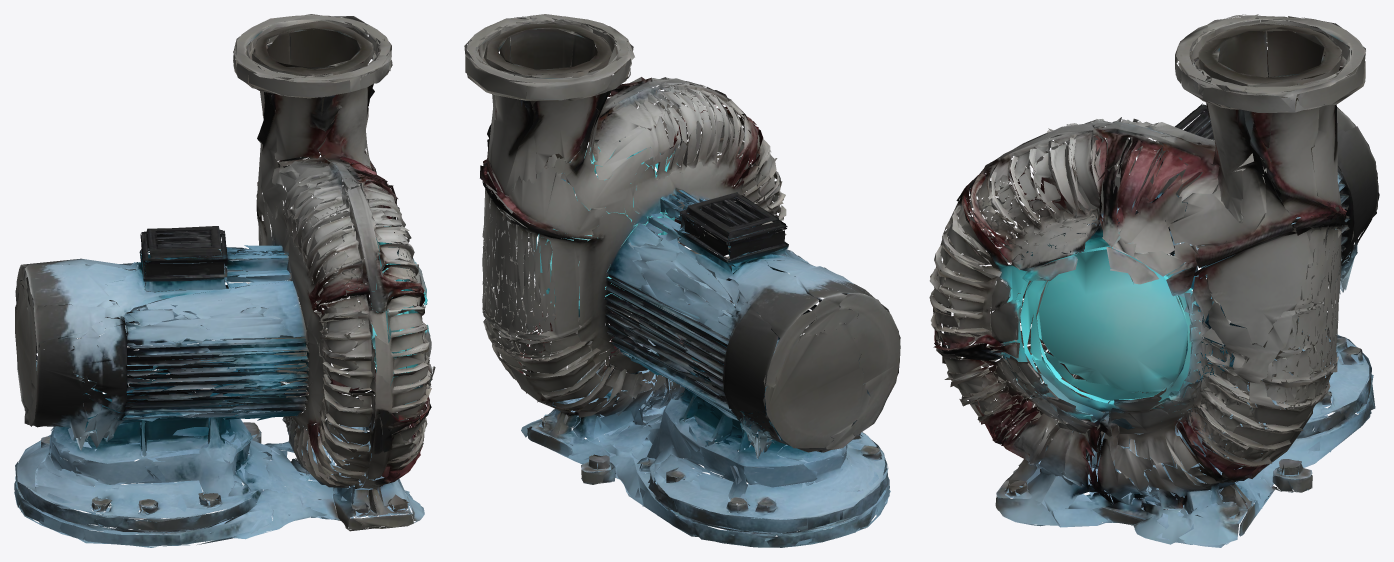
Rendered from prop_ruptured_coolant_pump.glb.
3 views of the same model, side by side, from view 1: azimuth 30°, elevation 25°; view 2: azimuth 150°, elevation 25°; view 3: azimuth 270°, elevation 25° (orthographic). The views are drawn at different scales.
Parts seen in each view (by area): view 1: node_0; view 2: node_0; view 3: node_0.
Part boxes in pixels (x1=…): node_0: x1=14, y1=14, x2=435, y2=547; node_0: x1=464, y1=14, x2=900, y2=547; node_0: x1=929, y1=14, x2=1379, y2=547.
Size of the model in its own units: 0.7949 by 0.8013 by 0.6914.
Materials: 1 (1 with a texture image).
